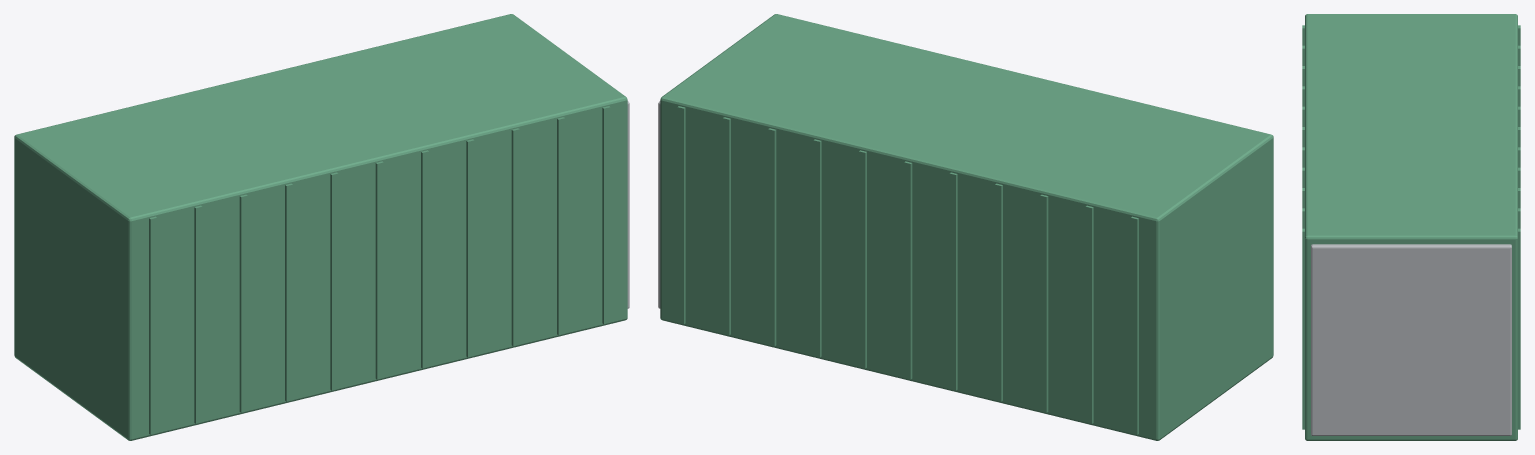
File: container_green.glb
3 renders of one model, left to right at view 1: azimuth 30°, elevation 25°; view 2: azimuth 150°, elevation 25°; view 3: azimuth 270°, elevation 25°, orthographic. The views are drawn at different scales.
Parts seen in each view (by area): view 1: shell, rib.002, rib.004, rib.005, rib.007, rib.010, rib.001, rib.008, rib.009, rib, rib.003, rib.006 (+1 smaller); view 2: shell, rib.002, rib.004, rib.005, rib.007, rib.010, rib.001, rib.008, rib.009, rib, rib.003, rib.006 (+1 smaller); view 3: shell, door, rib.010.
Part boxes in pixels (x1,y1,x2,y2): shell: (14,14,627,440); rib.002: (239,194,247,412); rib.004: (330,172,338,390); rib.005: (375,161,383,379); rib.007: (466,139,474,357); rib.010: (602,106,610,324); rib.001: (194,205,202,423); rib.008: (511,128,519,346); rib.009: (557,117,564,335); rib: (149,216,156,434); rib.003: (285,183,292,401); rib.006: (421,150,428,368); shell: (660,14,1273,440); rib.002: (1040,194,1048,412); rib.004: (949,172,957,390); rib.005: (904,161,912,379); rib.007: (813,139,821,357); rib.010: (677,106,685,324); rib.001: (1085,205,1093,423); rib.008: (768,128,776,346); rib.009: (723,117,730,335); rib: (1131,216,1138,434); rib.003: (995,183,1002,401); rib.006: (859,150,866,368); shell: (1305,14,1517,440); door: (1311,244,1511,435); rib.010: (1302,228,1520,429).
Size of the model in its own units: 6.12 by 2.59 by 2.5.
